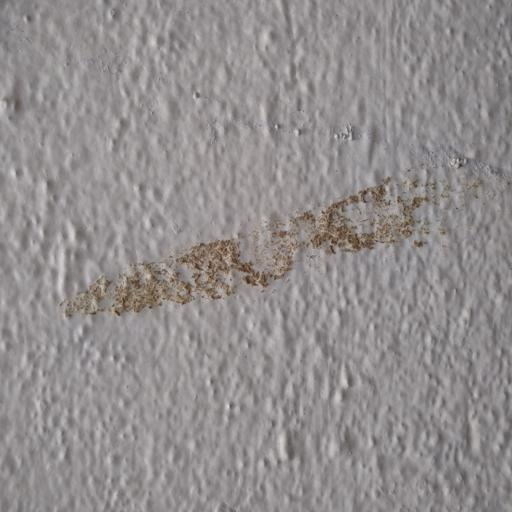stain: (46, 167, 512, 333)
